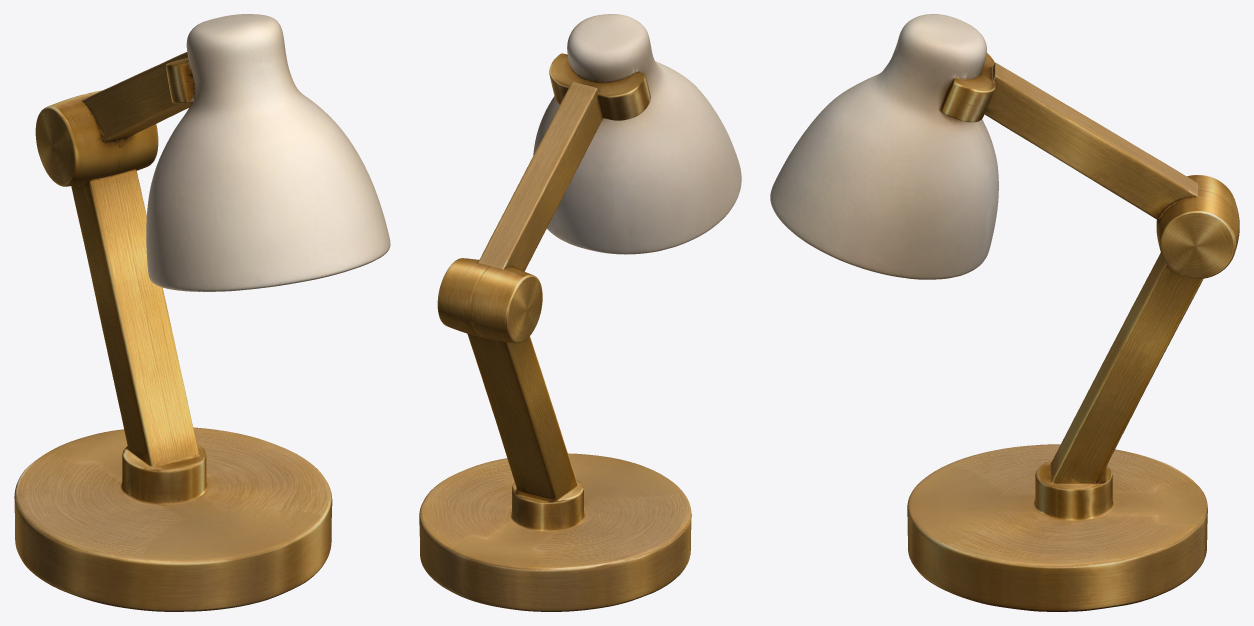
The model's file is product.glb.
The picture shows the model from 3 angles, left to right: view 1: azimuth 30°, elevation 25°; view 2: azimuth 150°, elevation 25°; view 3: azimuth 270°, elevation 25°; orthographic projection. The views are drawn at different scales.
Parts seen in each view (by area): view 1: tripo_node_396e8ca8-e6db-45e8-bb38-d6080b48bd8d; view 2: tripo_node_396e8ca8-e6db-45e8-bb38-d6080b48bd8d; view 3: tripo_node_396e8ca8-e6db-45e8-bb38-d6080b48bd8d.
Part boxes in pixels (x1,y1,x2,y2): tripo_node_396e8ca8-e6db-45e8-bb38-d6080b48bd8d: [14, 14, 390, 611]; tripo_node_396e8ca8-e6db-45e8-bb38-d6080b48bd8d: [419, 14, 741, 611]; tripo_node_396e8ca8-e6db-45e8-bb38-d6080b48bd8d: [770, 14, 1239, 611].
Bounding box in the file's own units: 0.4889 × 0.9793 × 0.7867.
1 material, 1 textured.
